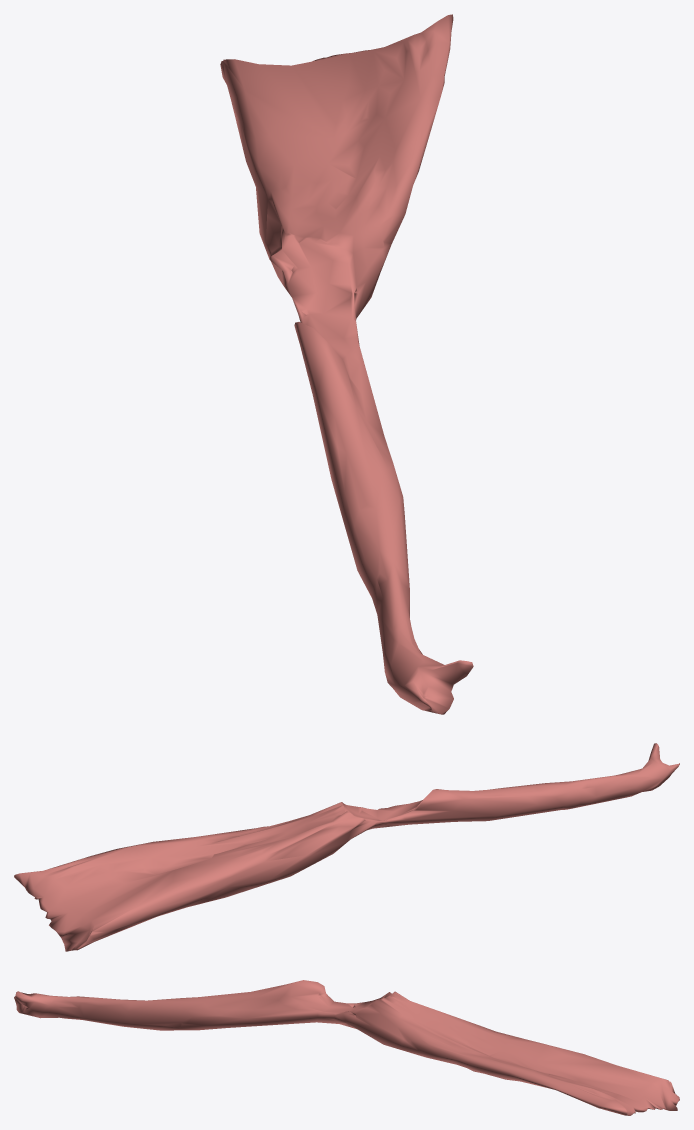
3 views of the same model, one above another, from view 1: azimuth 30°, elevation 25°; view 2: azimuth 150°, elevation 25°; view 3: azimuth 270°, elevation 25° (orthographic). The views are drawn at different scales.
Visible parts, largest first — view 1: ZA_a192f85fdc3e5aaa; view 2: ZA_a192f85fdc3e5aaa; view 3: ZA_a192f85fdc3e5aaa.
Boxes of the visible parts, x1=… form: ZA_a192f85fdc3e5aaa: x1=220, y1=14, x2=473, y2=714; ZA_a192f85fdc3e5aaa: x1=14, y1=743, x2=679, y2=951; ZA_a192f85fdc3e5aaa: x1=14, y1=980, x2=679, y2=1115.
Size of the model in its own units: 0.071 by 0.0165 by 0.1274.
